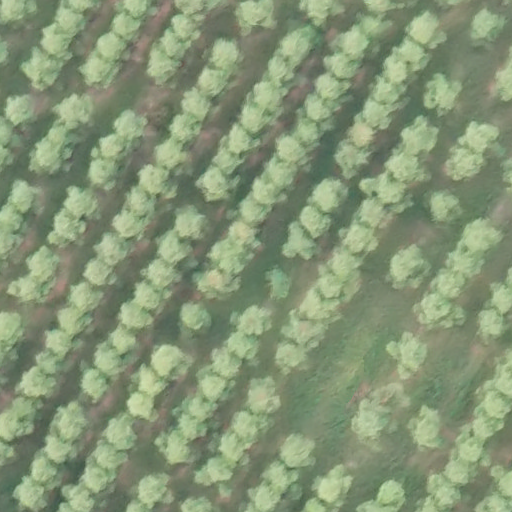eucalipto: (353, 383, 400, 436), (387, 244, 428, 293), (387, 330, 430, 374), (21, 48, 66, 90), (396, 117, 442, 158), (383, 148, 431, 186), (406, 405, 444, 452), (366, 174, 414, 210), (149, 341, 193, 380), (28, 137, 74, 174), (460, 218, 503, 256), (362, 478, 410, 512), (423, 71, 460, 115), (276, 430, 315, 471), (469, 8, 507, 50), (209, 236, 252, 273), (11, 368, 59, 401), (195, 266, 239, 302), (280, 222, 319, 262), (404, 12, 446, 49), (420, 476, 463, 512), (443, 244, 487, 278), (443, 151, 488, 184), (417, 294, 462, 327), (233, 301, 273, 338), (133, 471, 175, 506), (1, 398, 39, 436), (284, 307, 321, 346), (458, 119, 498, 155), (91, 339, 127, 378), (61, 186, 101, 221), (338, 224, 381, 256), (53, 404, 89, 442), (211, 138, 246, 177), (245, 374, 280, 413), (353, 198, 394, 231), (233, 1, 281, 29), (252, 171, 292, 204), (201, 455, 241, 488), (1, 309, 27, 359), (313, 178, 349, 214), (173, 207, 210, 242), (157, 230, 194, 265), (261, 456, 296, 493), (313, 467, 348, 504), (298, 288, 336, 322), (116, 300, 155, 333), (472, 310, 512, 342), (266, 154, 302, 189), (178, 301, 213, 337), (217, 433, 253, 468), (477, 384, 512, 420), (92, 440, 129, 474), (427, 190, 464, 224), (55, 96, 93, 129), (295, 108, 328, 146), (80, 258, 121, 288), (136, 162, 172, 196), (159, 433, 195, 467), (111, 108, 149, 140), (197, 168, 235, 200), (276, 134, 315, 165), (109, 210, 149, 240), (231, 409, 265, 444), (123, 188, 159, 221), (94, 233, 130, 266), (195, 368, 231, 401), (145, 50, 182, 82), (155, 141, 193, 172), (28, 454, 62, 488), (145, 258, 180, 291), (7, 180, 43, 212), (278, 30, 314, 62), (56, 306, 94, 336), (326, 50, 365, 79), (238, 101, 272, 134), (105, 417, 139, 450), (211, 347, 244, 381), (130, 281, 165, 313), (207, 41, 243, 72), (392, 39, 428, 70), (134, 365, 171, 395), (430, 270, 467, 300), (227, 124, 260, 157), (360, 98, 393, 131), (80, 464, 113, 497), (82, 56, 116, 88), (27, 246, 59, 280), (79, 368, 111, 402), (305, 90, 337, 124), (127, 391, 161, 423), (332, 142, 367, 173), (68, 282, 104, 312), (156, 29, 189, 61), (239, 193, 272, 225), (227, 216, 259, 249), (297, 205, 331, 236), (260, 268, 291, 302), (95, 131, 131, 160), (468, 411, 504, 440), (486, 278, 512, 318), (15, 476, 47, 508), (4, 96, 38, 126), (380, 57, 414, 87), (456, 432, 486, 466), (61, 486, 100, 512), (327, 252, 363, 280), (254, 83, 285, 115), (53, 213, 86, 243), (179, 89, 212, 119), (313, 272, 346, 302), (52, 9, 87, 37), (223, 332, 258, 360), (182, 395, 221, 420), (245, 485, 281, 512), (314, 73, 351, 99), (174, 416, 211, 442), (346, 118, 377, 149), (299, 1, 339, 25), (469, 490, 512, 512), (41, 26, 72, 56), (45, 434, 78, 462), (275, 338, 308, 366), (338, 30, 372, 57), (109, 330, 139, 360), (44, 330, 75, 359), (263, 56, 294, 85), (369, 78, 403, 104), (97, 32, 127, 61), (170, 15, 201, 43), (440, 459, 472, 486), (89, 160, 119, 188), (197, 68, 227, 96), (111, 14, 142, 41), (172, 1, 216, 20), (169, 116, 201, 141), (33, 350, 62, 375), (1, 208, 27, 232), (117, 1, 153, 18)
